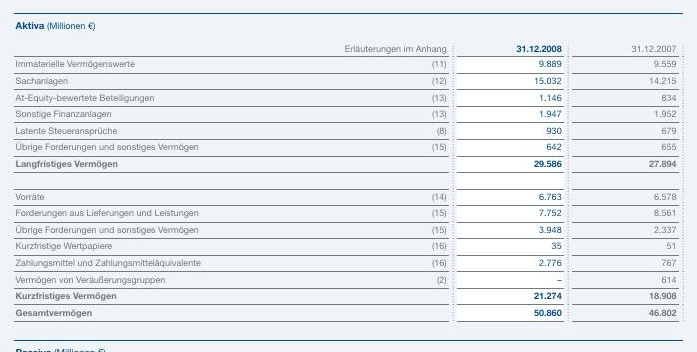table: (0, 0, 697, 352)
